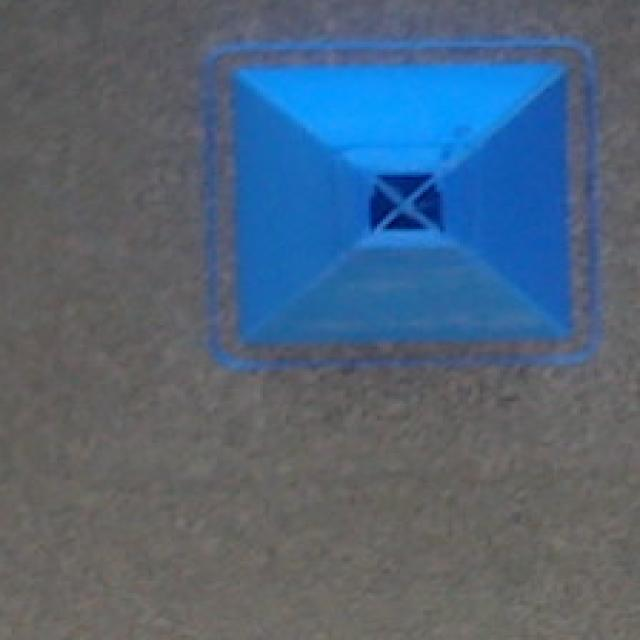mistake: (235, 68, 575, 342)
